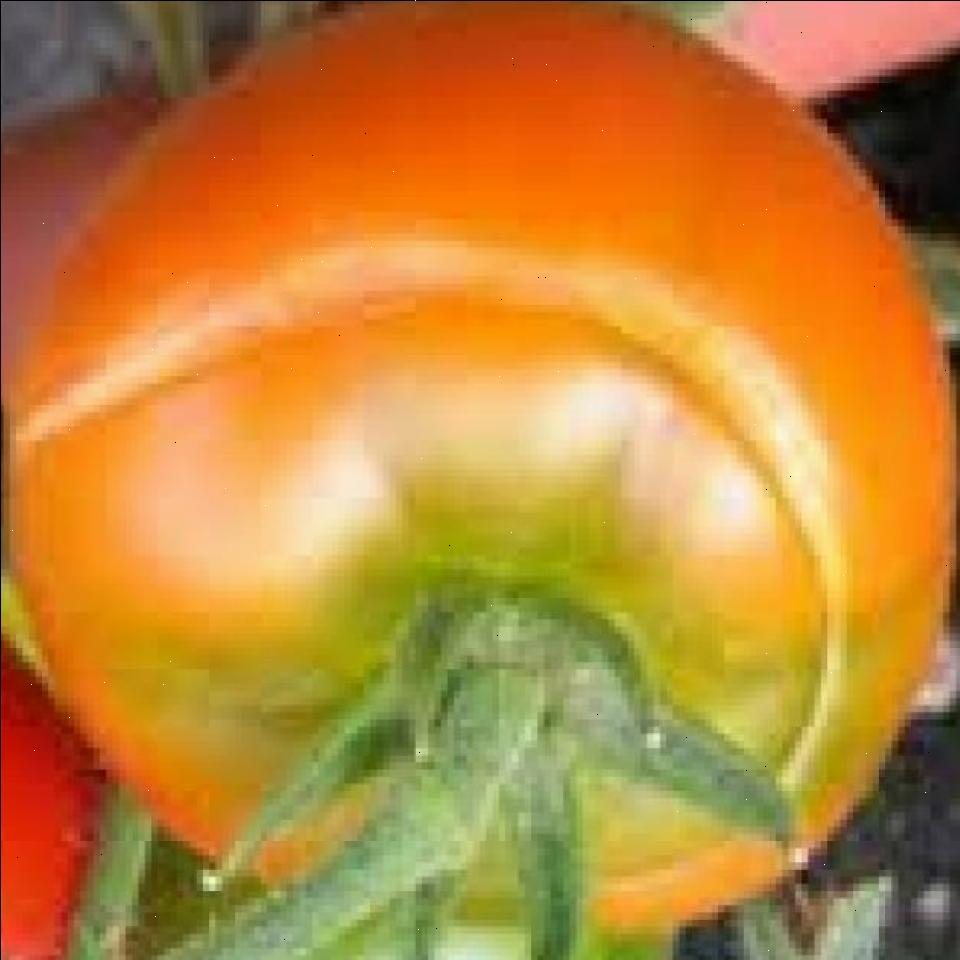Cracking: (16, 171, 862, 906)
